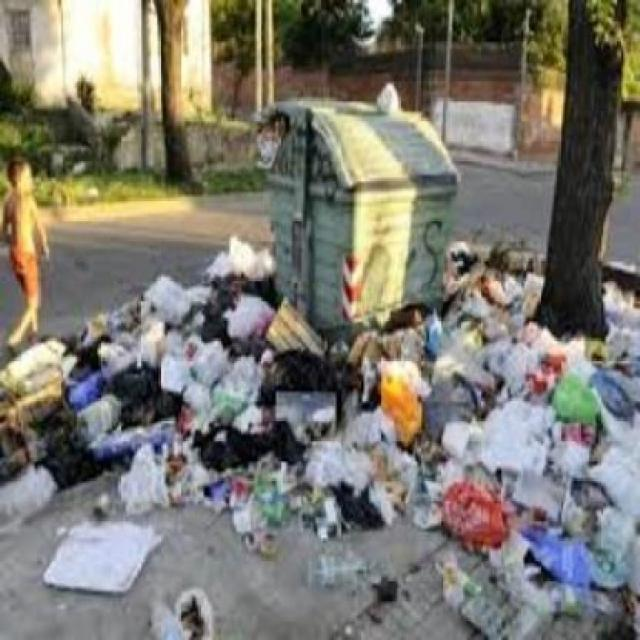garbage: (366, 311, 630, 630), (8, 337, 353, 511), (137, 243, 267, 349), (434, 254, 531, 363)
